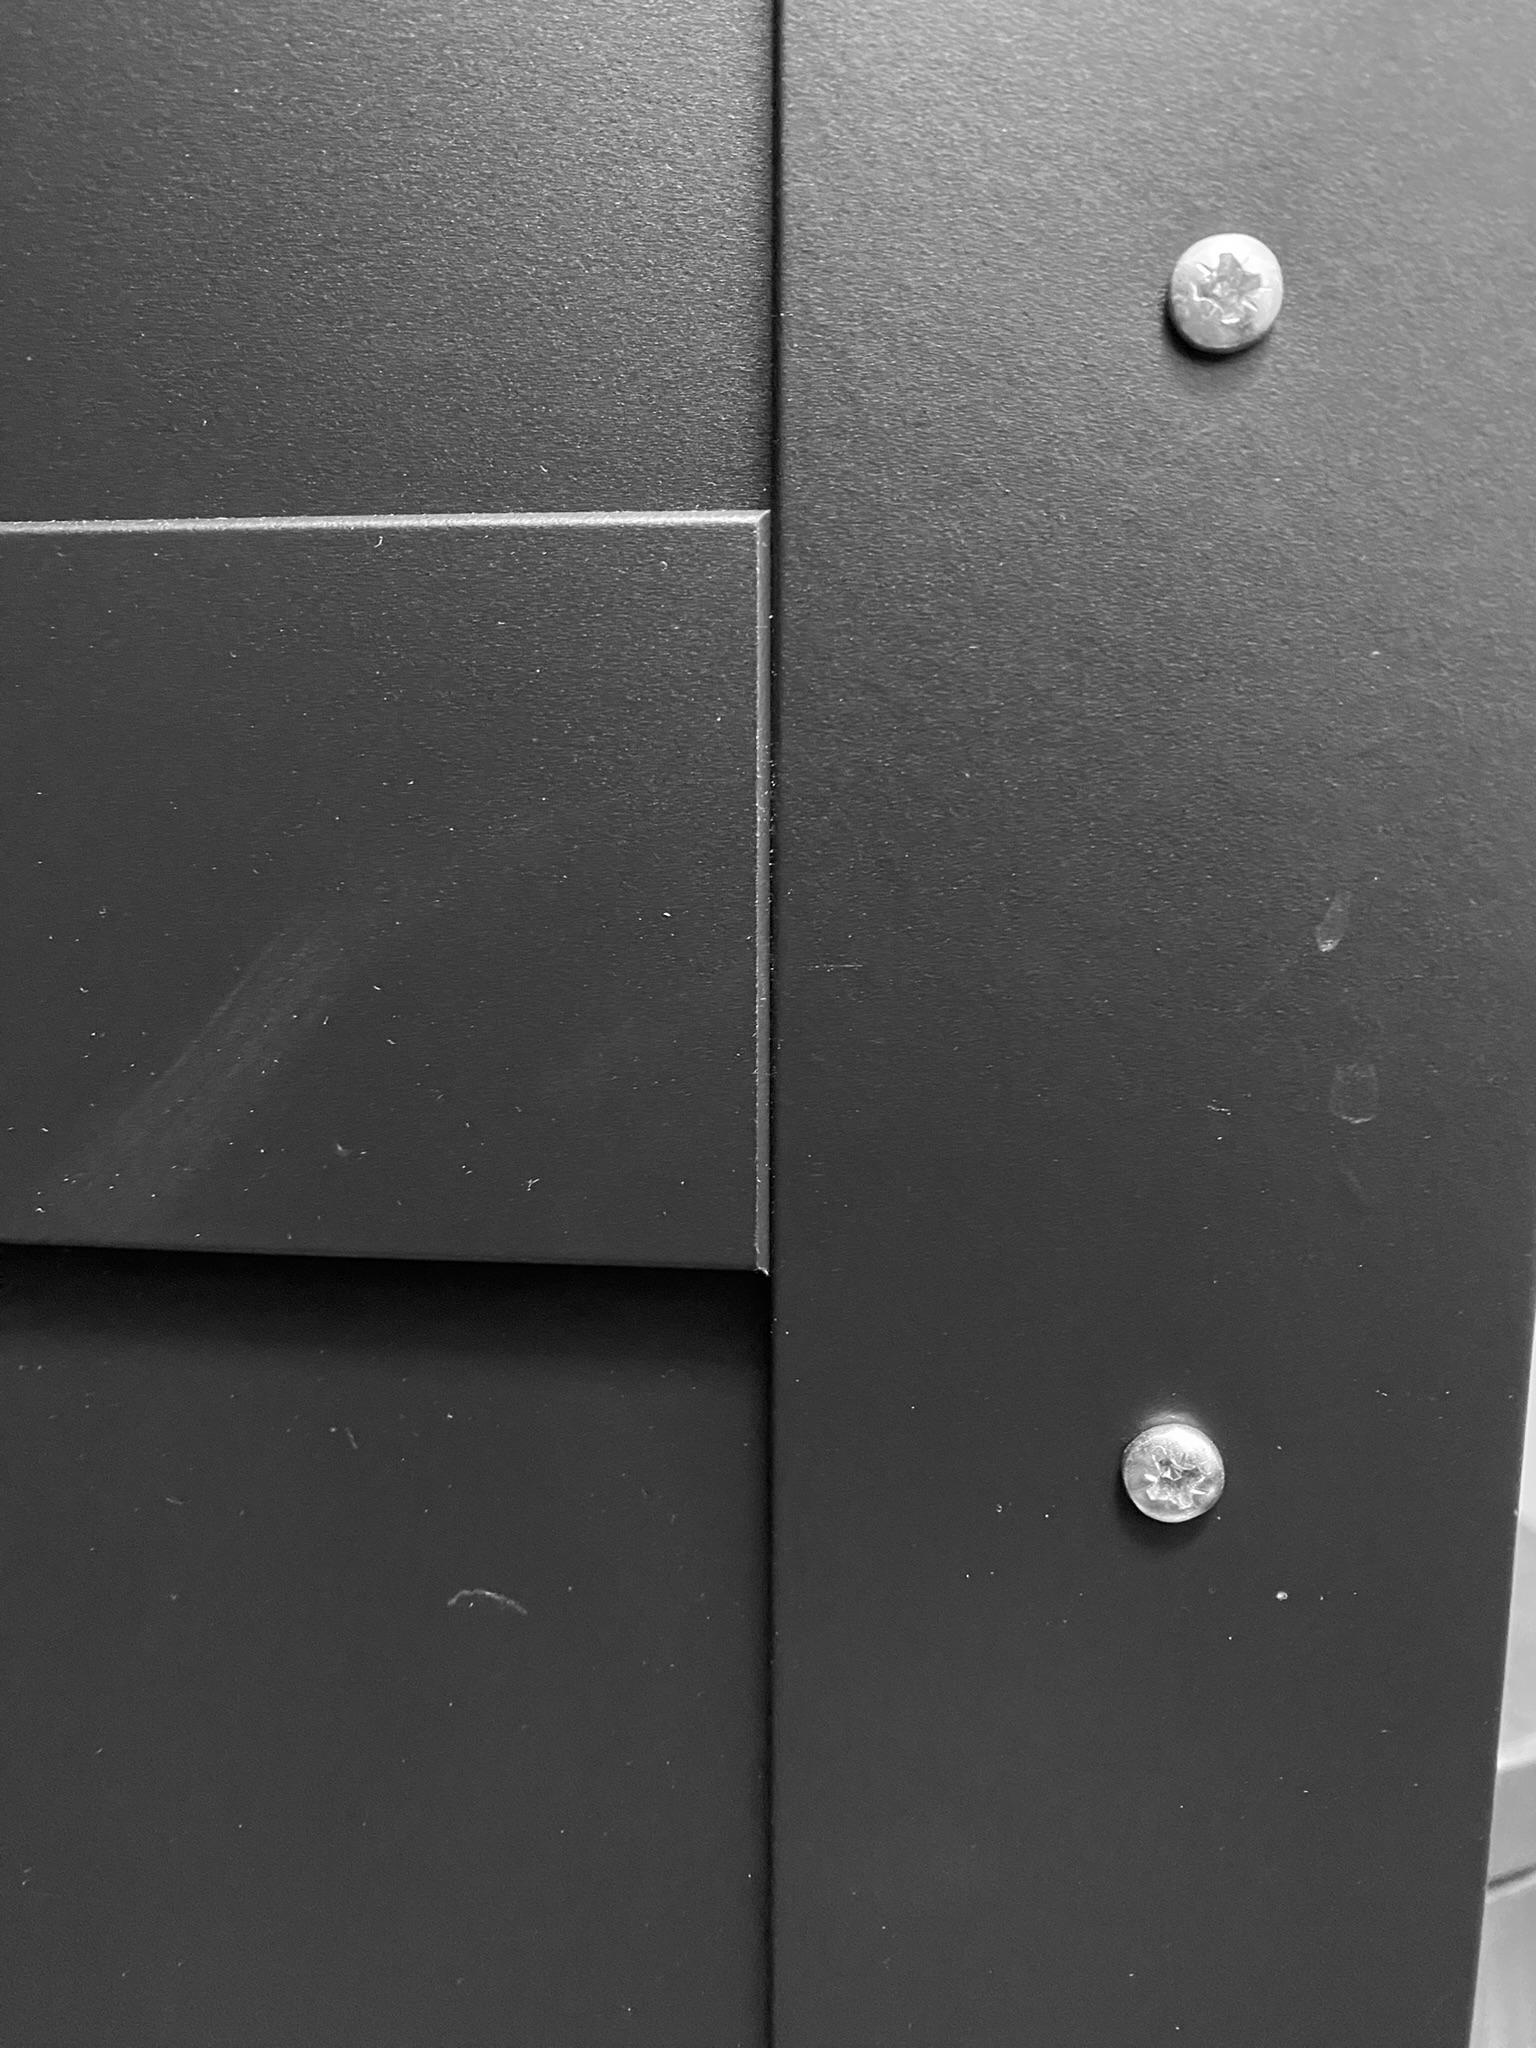philips-PZ: (1168, 232, 1286, 358), (1120, 1422, 1226, 1529)
